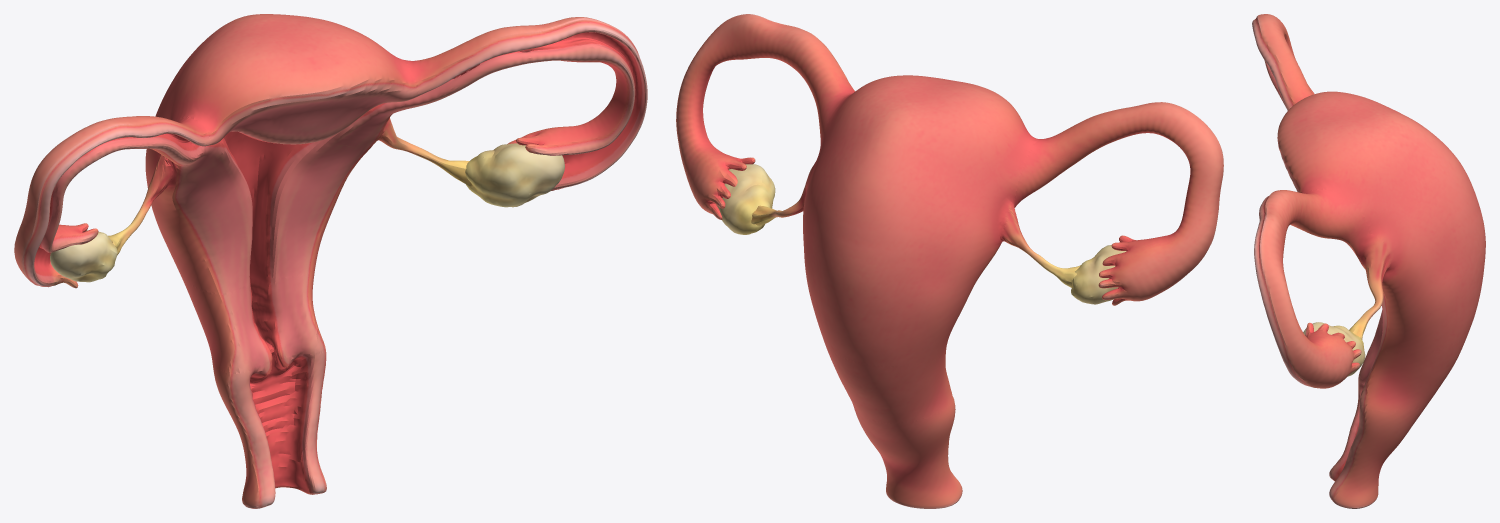
The picture shows the model from 3 angles, left to right: view 1: azimuth 30°, elevation 25°; view 2: azimuth 150°, elevation 25°; view 3: azimuth 270°, elevation 25°; orthographic projection. The views are drawn at different scales.
Visible parts, largest first — view 1: polySurface34, Vagina, Cervix, model:object_1; view 2: polySurface34, Vagina, Cervix, model:object_1; view 3: polySurface34, Cervix, Vagina, model:object_1.
Boxes of the visible parts, left/top/right/bottom form: polySurface34: left=14, top=14, right=647, bottom=290; Vagina: left=212, top=348, right=326, bottom=508; Cervix: left=179, top=258, right=325, bottom=373; model:object_1: left=50, top=143, right=564, bottom=282; polySurface34: left=676, top=14, right=1223, bottom=362; Vagina: left=854, top=400, right=962, bottom=508; Cervix: left=825, top=343, right=953, bottom=424; model:object_1: left=716, top=164, right=1126, bottom=304; polySurface34: left=1252, top=14, right=1485, bottom=388; Cervix: left=1359, top=313, right=1469, bottom=412; Vagina: left=1329, top=375, right=1426, bottom=508; model:object_1: left=1303, top=322, right=1365, bottom=376.
Bounding box in the file's own units: 409 × 297 × 164.
